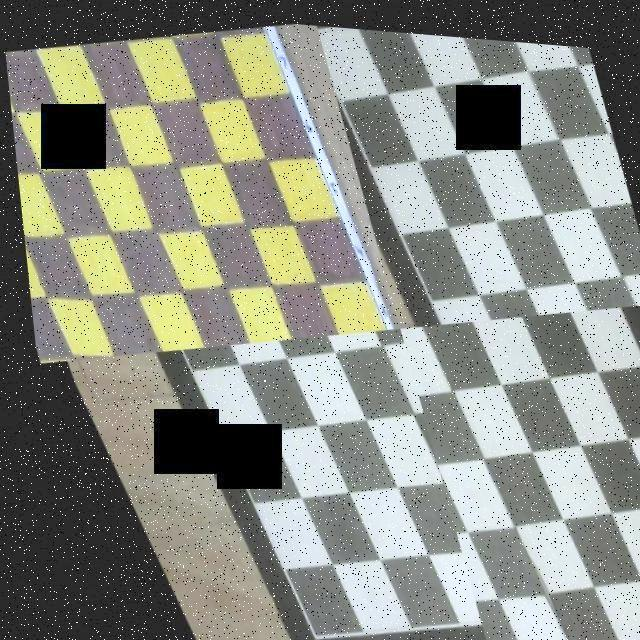chess-table-corners: (573, 300, 583, 306), (288, 634, 298, 640), (126, 351, 134, 358), (462, 602, 467, 610), (256, 22, 262, 26)
